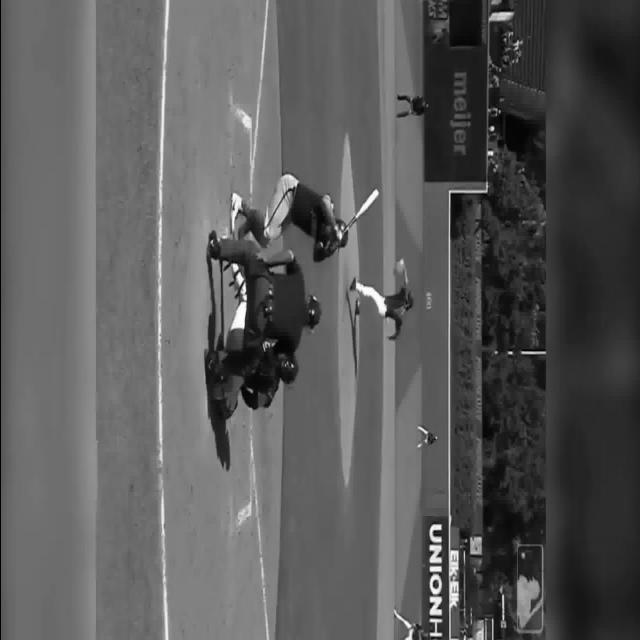baseball_glove: (393, 257, 404, 275)
bat: (342, 188, 378, 232)
shoe: (230, 192, 242, 232), (206, 350, 222, 379), (216, 397, 237, 419), (208, 229, 220, 259), (238, 218, 250, 240), (350, 276, 356, 290)
